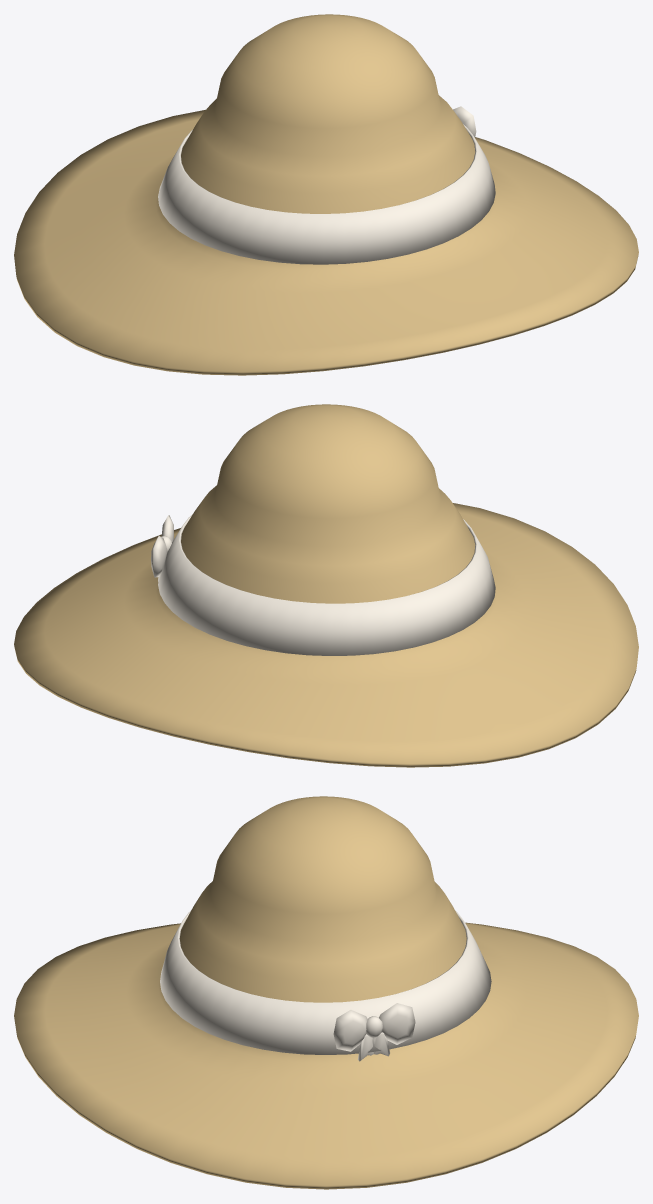
Rendered from sun_hat.glb.
The picture shows the model from 3 angles, top to bottom: view 1: azimuth 30°, elevation 25°; view 2: azimuth 150°, elevation 25°; view 3: azimuth 270°, elevation 25°; orthographic projection.
Parts seen in each view (by area): view 1: sun_hat; view 2: sun_hat; view 3: sun_hat.
Part boxes in pixels (x1=…): sun_hat: x1=14, y1=14, x2=638, y2=375; sun_hat: x1=14, y1=404, x2=638, y2=767; sun_hat: x1=14, y1=796, x2=638, y2=1189.
Size of the model in its own units: 0.5145 by 0.2178 by 0.5022.
